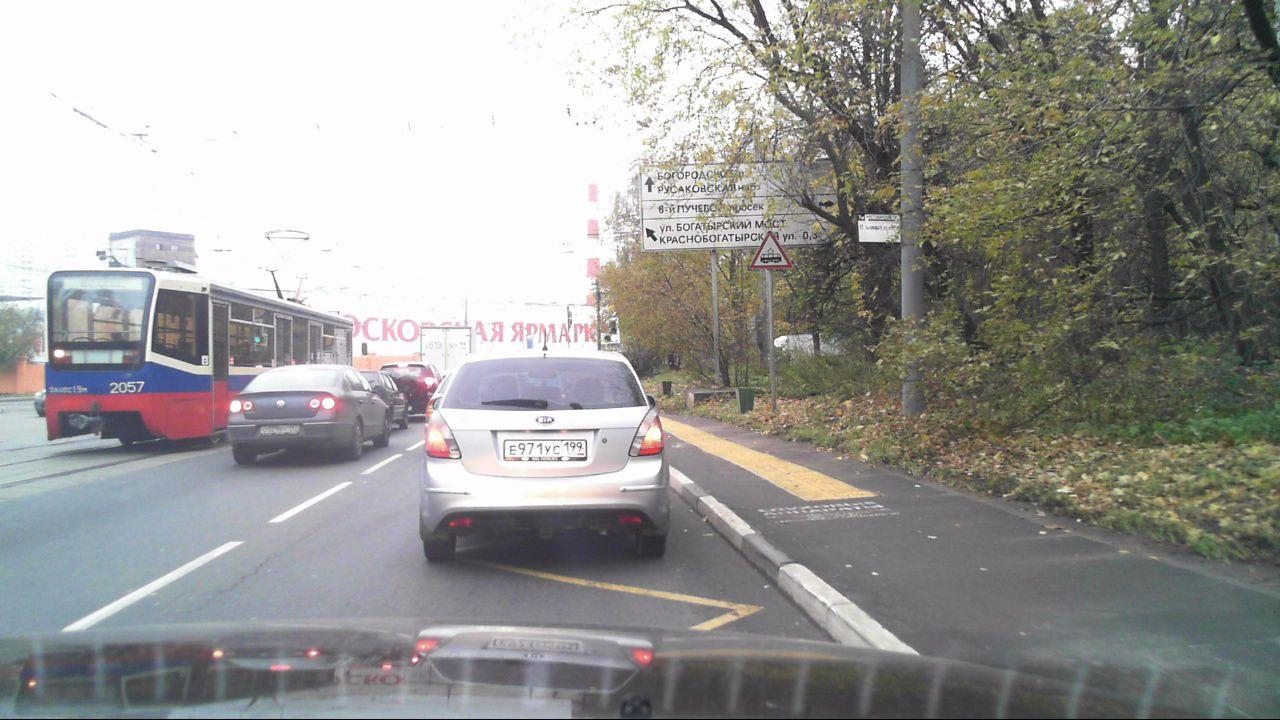1_5: (750, 232, 788, 269)
